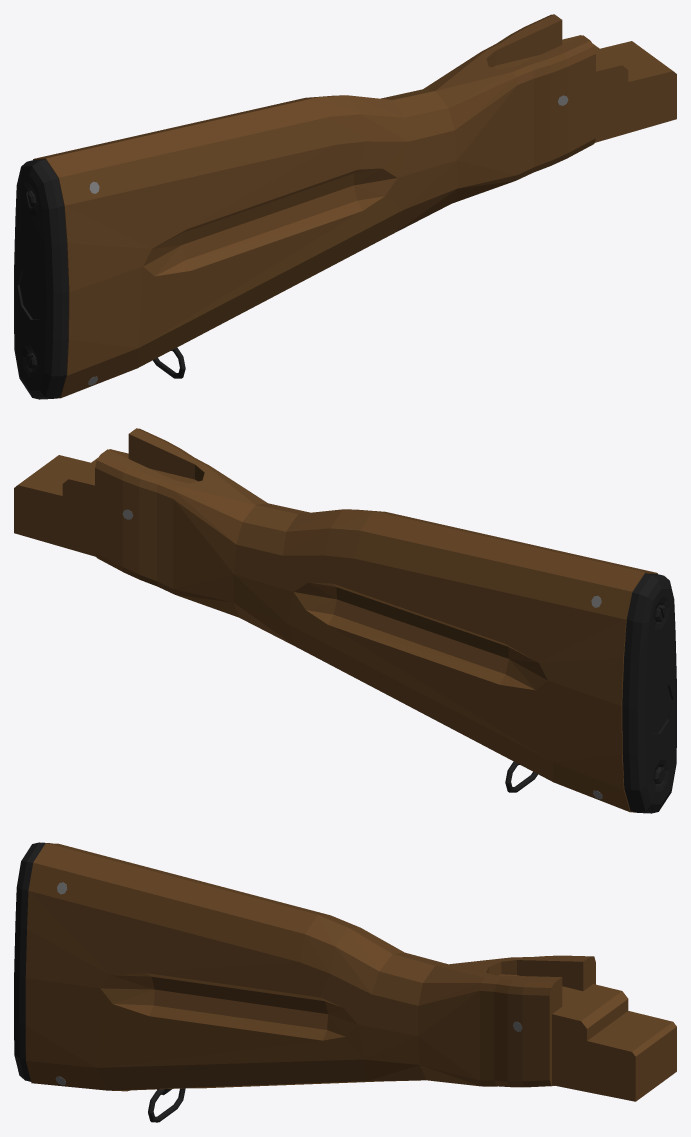
File: ak-74_stock.glb
3 renders of one model, top to bottom at view 1: azimuth 30°, elevation 25°; view 2: azimuth 150°, elevation 25°; view 3: azimuth 330°, elevation 25°, orthographic.
Visible parts, largest first — view 1: ak74 stock_1 (×2); view 2: ak74 stock_1 (×2); view 3: ak74 stock_1 (×2).
Part boxes in pixels (x1=…): ak74 stock_1 (×2): x1=14, y1=14, x2=676, y2=399; ak74 stock_1 (×2): x1=14, y1=428, x2=676, y2=813; ak74 stock_1 (×2): x1=14, y1=842, x2=676, y2=1122.
Size of the model in its own units: 2.77 by 1.03 by 0.3527.
